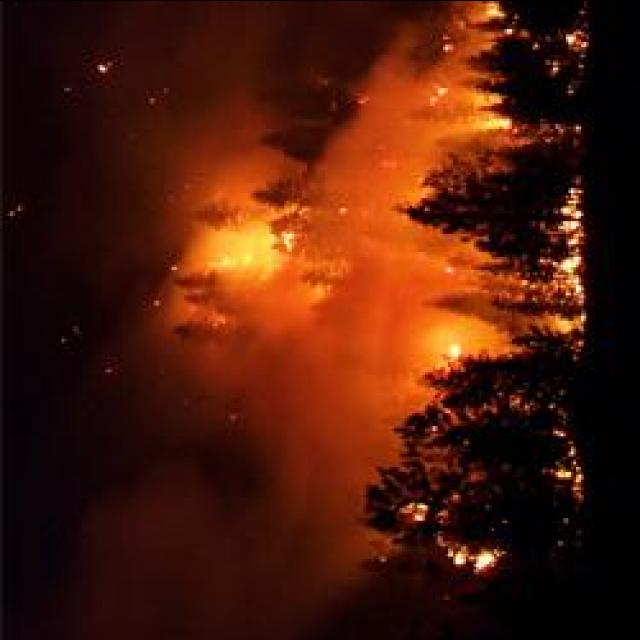fire: (203, 180, 310, 280), (547, 176, 589, 332), (438, 520, 512, 576)
smoke: (250, 294, 396, 441), (144, 0, 276, 158), (342, 11, 450, 151)
